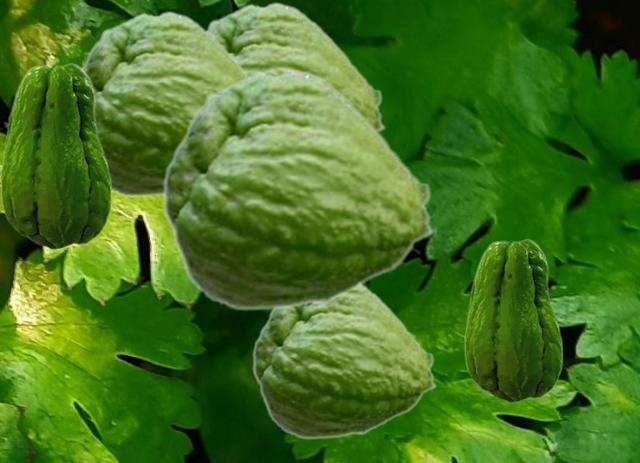sayote: (162, 68, 436, 311), (81, 10, 248, 197), (252, 284, 437, 439), (204, 1, 386, 133), (0, 62, 111, 249), (464, 238, 562, 402)
